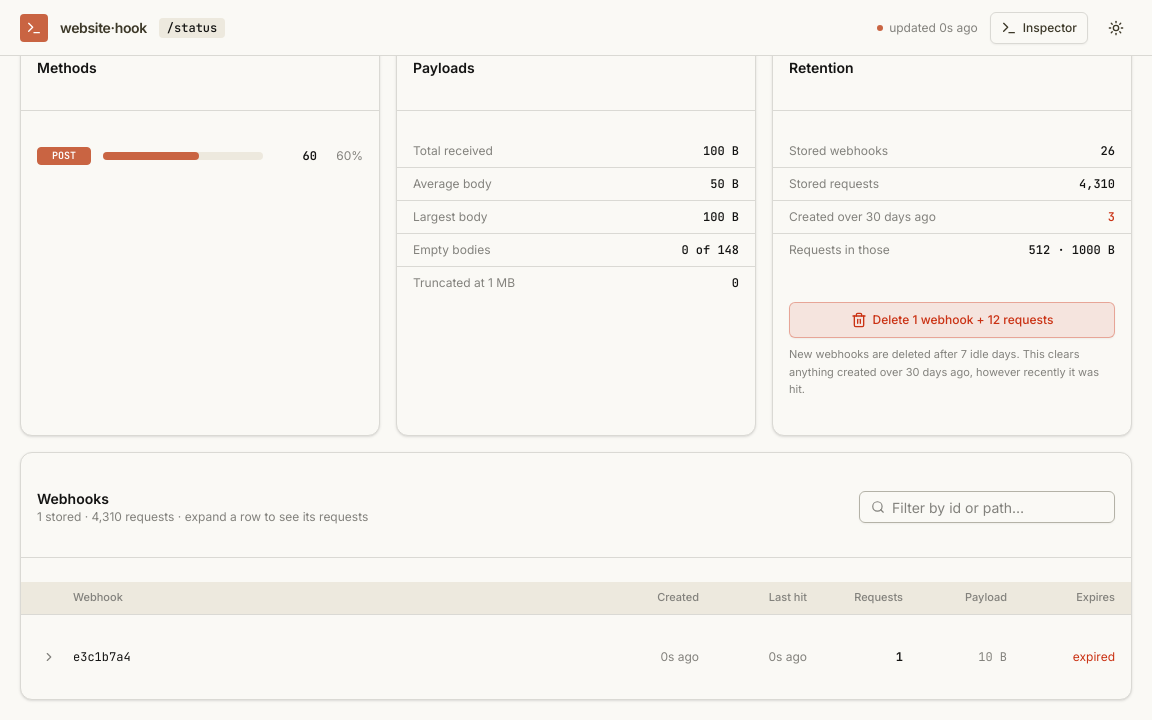
Test case: StatusDashboard › expands a webhook row to fetch its recent requests
(page scrolled)
What coordinates should you click on to do the following:
click the text "e3c1b7a4"
I would click on:
 (102, 657)
Its box is top-left (73, 649), bottom-right (131, 665).
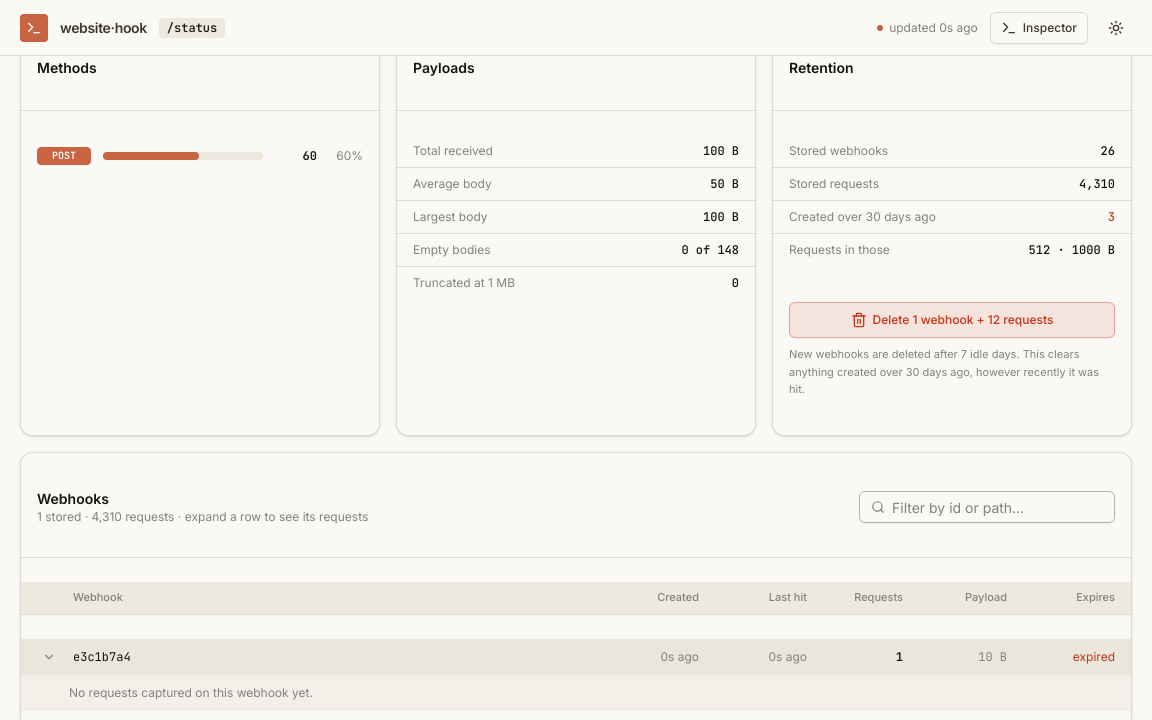
Expected: the text "No requests captured on this webhook yet." is shown, top-left (69, 685), bottom-right (313, 700)
